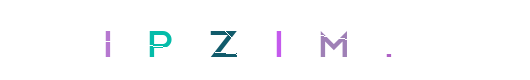1: (288, 0, 368, 80)
I: (118, 0, 198, 80), (210, 0, 290, 80)
M: (225, 0, 305, 80)
P: (165, 0, 245, 80)
Z: (183, 0, 263, 80)
